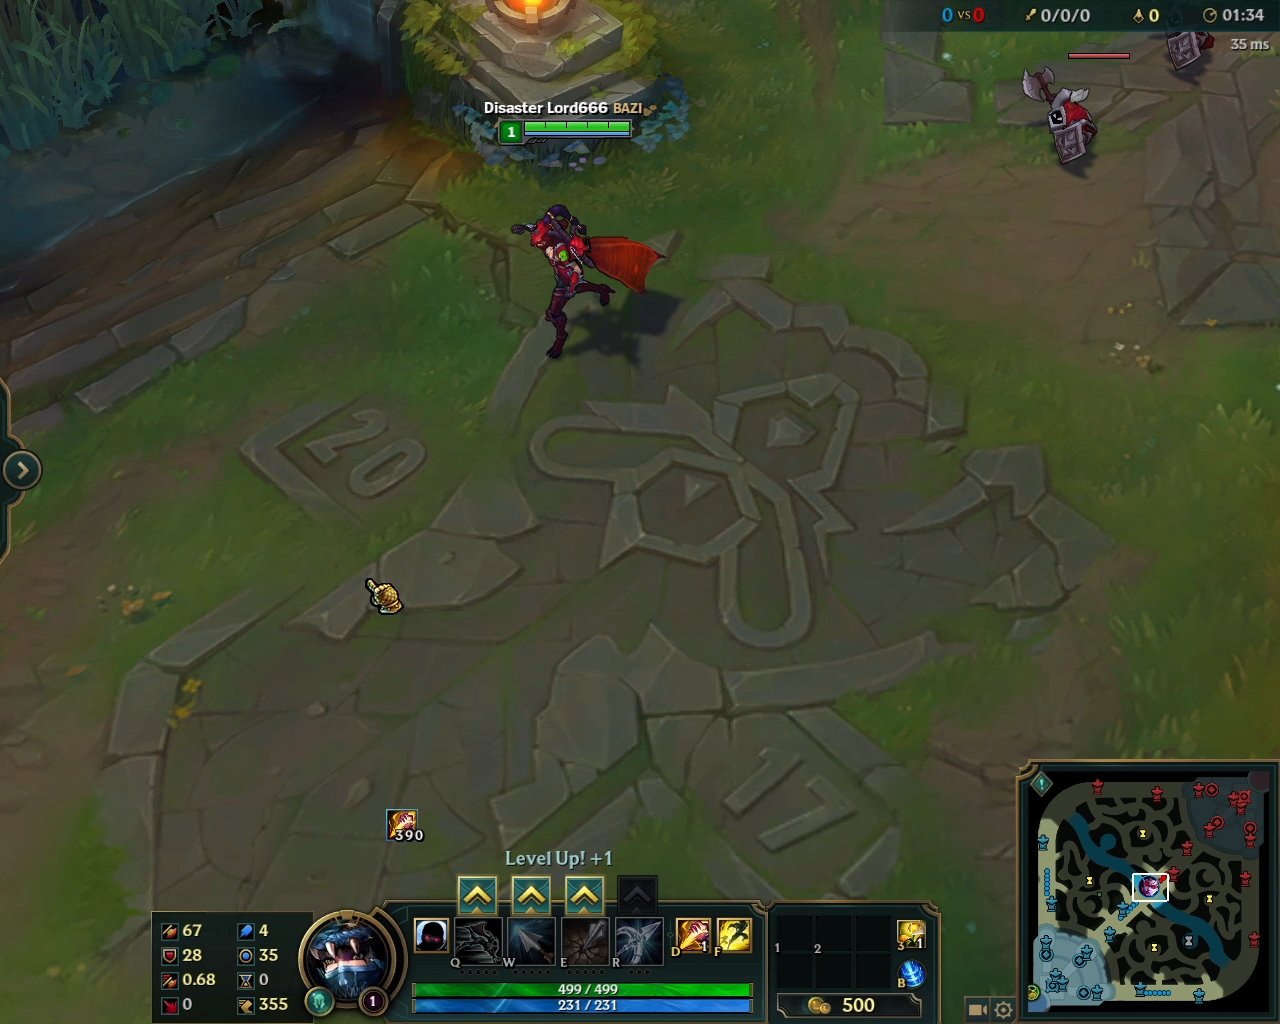EnemyMinion: (1013, 49, 1128, 174)
Vayne: (509, 197, 669, 370)
